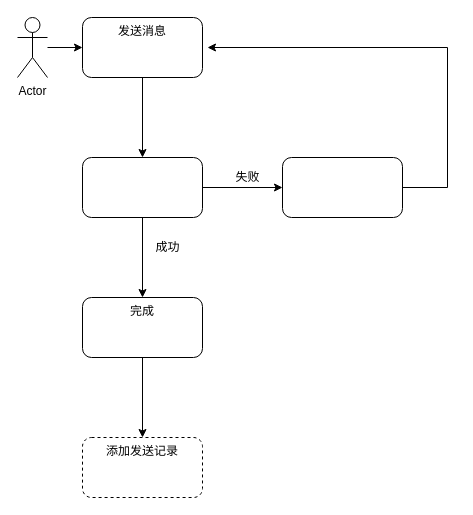
Some shapes in this 473 by 515 pixel diagram are drawn without their labels. Here are the shapes that lost their labels. From the top down, the box of each, then its label:
(82, 156, 202, 218): 用户给指定好友发送消息（文本/图片）
(282, 156, 402, 218): 回滚
